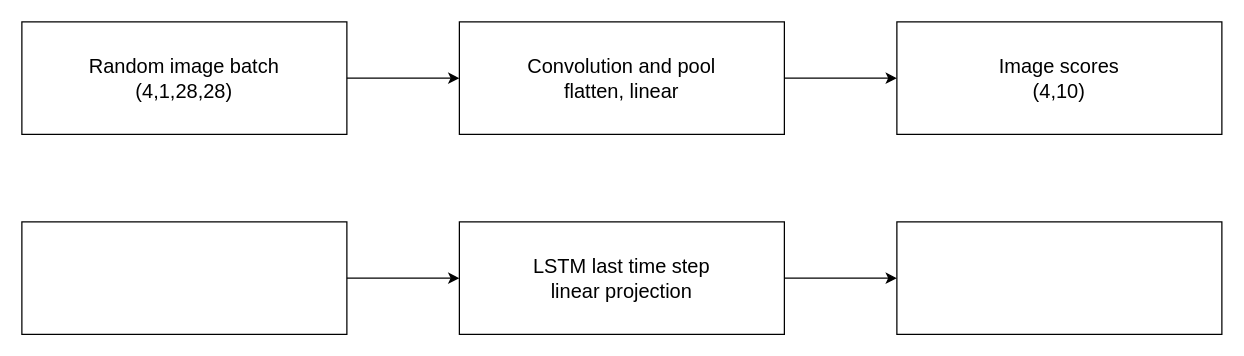
This 1244x356 diagram has some shape labels left out. Each missing label, with the centre of its shape:
"Random sequence batch (4,20,5)" belongs at point (184, 277).
"Sequence scores (4,3)" belongs at point (1059, 277).
